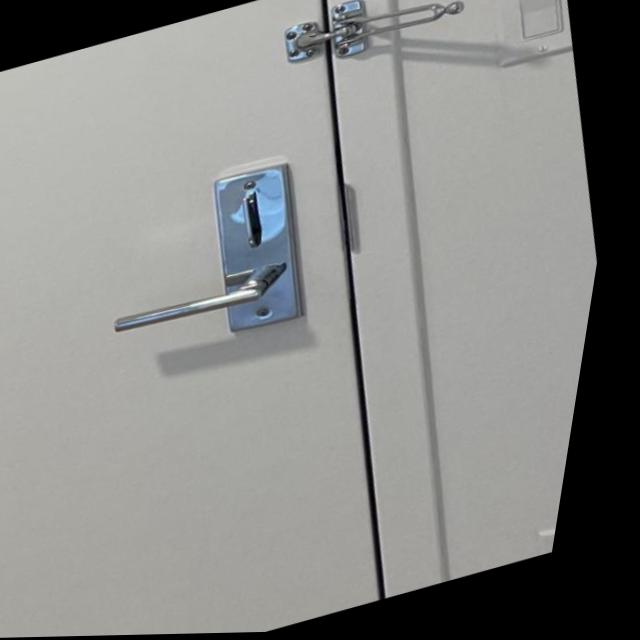door_handle: (101, 241, 330, 359)
